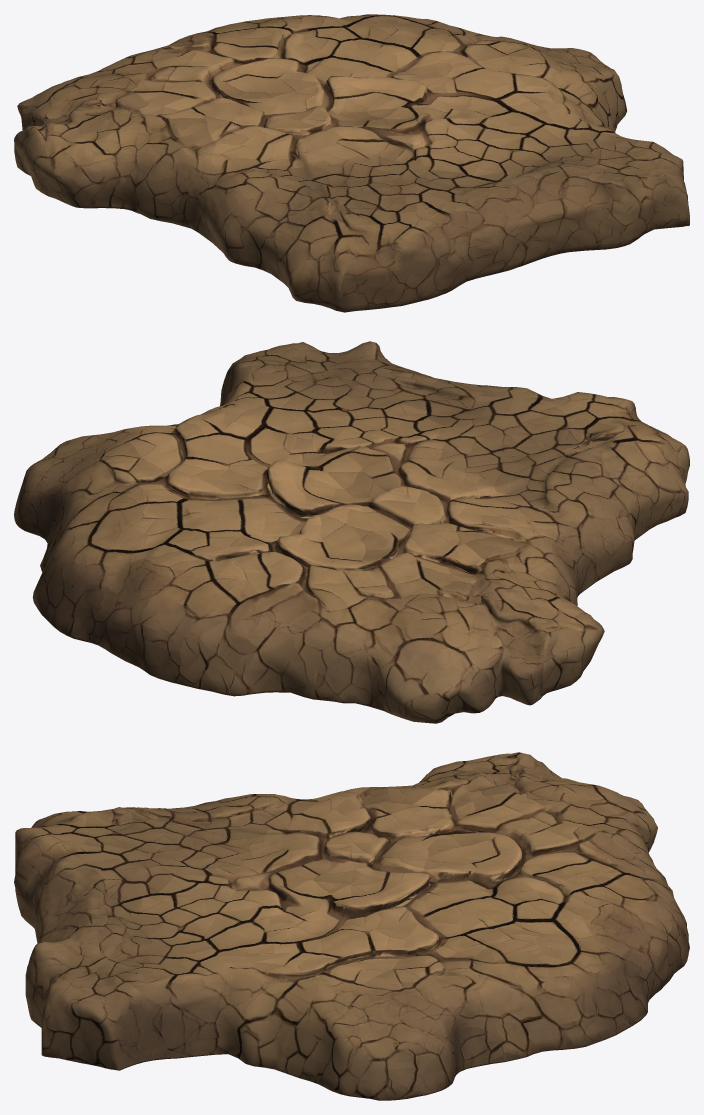
The model's file is island_2.glb.
3 renders of one model, top to bottom at view 1: azimuth 30°, elevation 25°; view 2: azimuth 150°, elevation 25°; view 3: azimuth 270°, elevation 25°, orthographic. The views are drawn at different scales.
Bounding box in the file's own units: 1.91 × 0.2427 × 1.83.
1 material, 1 textured.
